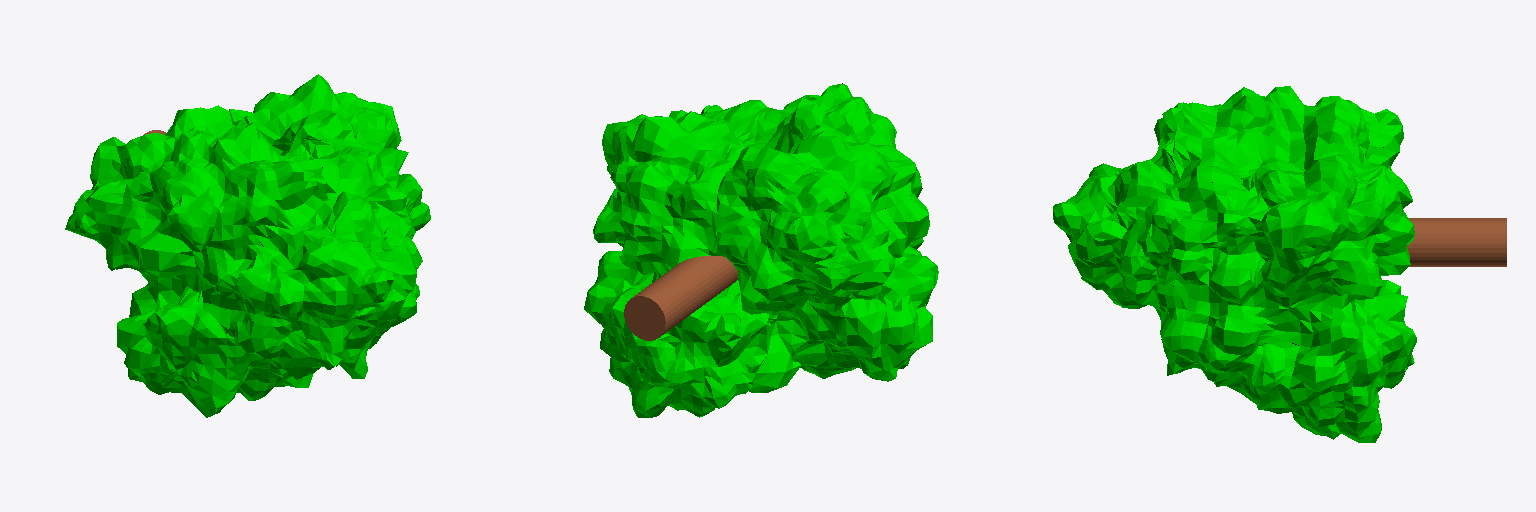
The picture shows the model from 3 angles: view 1: azimuth 30°, elevation 25°; view 2: azimuth 150°, elevation 25°; view 3: azimuth 270°, elevation 25°; orthographic projection.
Parts seen in each view (by area): view 1: rock; view 2: rock; view 3: rock.
Part boxes in pixels (left/top/right/bottom): rock: left=65, top=74, right=430, bottom=417; rock: left=584, top=83, right=938, bottom=417; rock: left=1053, top=86, right=1506, bottom=442.
Size of the model in its own units: 1.61 by 1.5 by 2.05.
Materials: 1 (1 with a texture image).